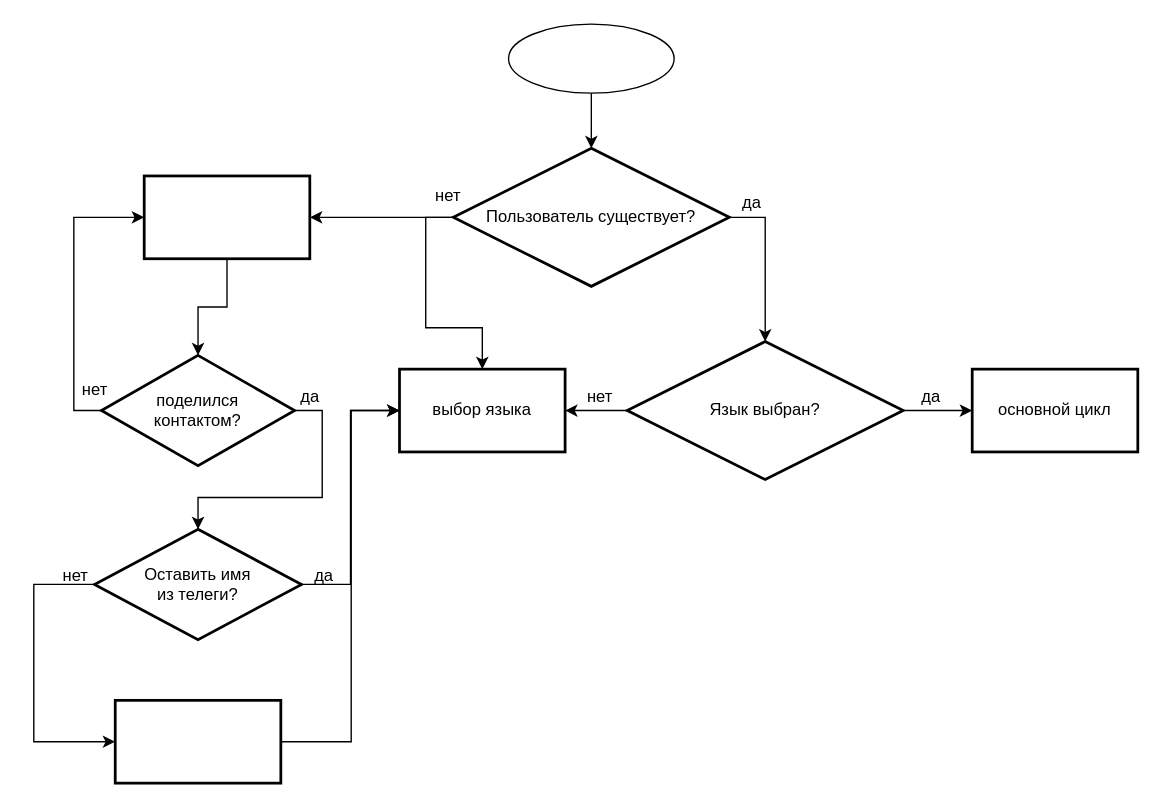
Some shapes in this 1163 by 809 pixel diagram are drawn without their labels. The centre of each missing label's shape, as x and y in pixels:
"/start" goes at (590,58).
"Запрос имени" goes at (197,741).
"Регистрация" goes at (226,216).
